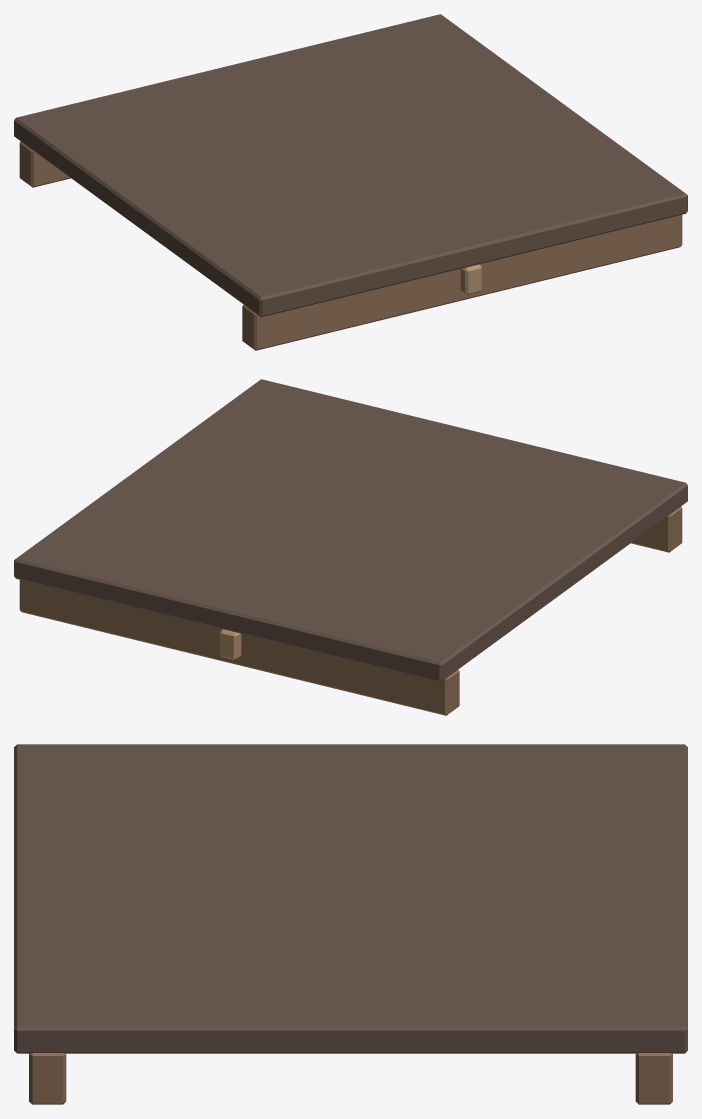
File: ceiling.glb
3 views of the same model, one above another, from view 1: azimuth 30°, elevation 25°; view 2: azimuth 150°, elevation 25°; view 3: azimuth 270°, elevation 25° (orthographic). The views are drawn at different scales.
Visible parts, largest first — view 1: TV_ceiling; view 2: TV_ceiling; view 3: TV_ceiling.
Boxes of the visible parts, x1,y1,x2,y2 form: TV_ceiling: (14,14,687,350); TV_ceiling: (14,379,687,715); TV_ceiling: (14,744,687,1104).
Size of the model in its own units: 4 by 0.515 by 4.
